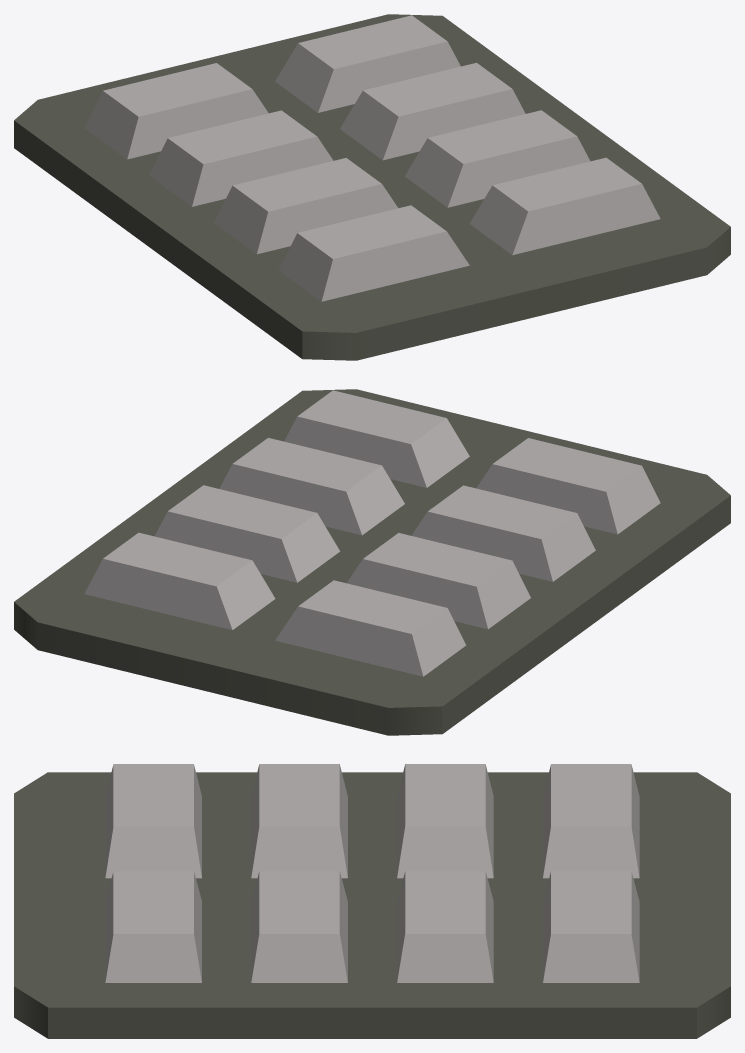
The model's file is SM_Prop_Pills_02.glb.
The picture shows the model from 3 angles, top to bottom: view 1: azimuth 30°, elevation 25°; view 2: azimuth 150°, elevation 25°; view 3: azimuth 270°, elevation 25°; orthographic projection. The views are drawn at different scales.
Parts seen in each view (by area): view 1: SM_Prop_Pills_02; view 2: SM_Prop_Pills_02; view 3: SM_Prop_Pills_02.
Boxes of the visible parts, bbox=[...] form: SM_Prop_Pills_02: bbox=[14, 14, 730, 360]; SM_Prop_Pills_02: bbox=[14, 389, 730, 735]; SM_Prop_Pills_02: bbox=[14, 764, 730, 1038].
Size of the model in its own units: 0.1489 by 0.0213 by 0.1916.
Materials: 1 (1 with a texture image).
